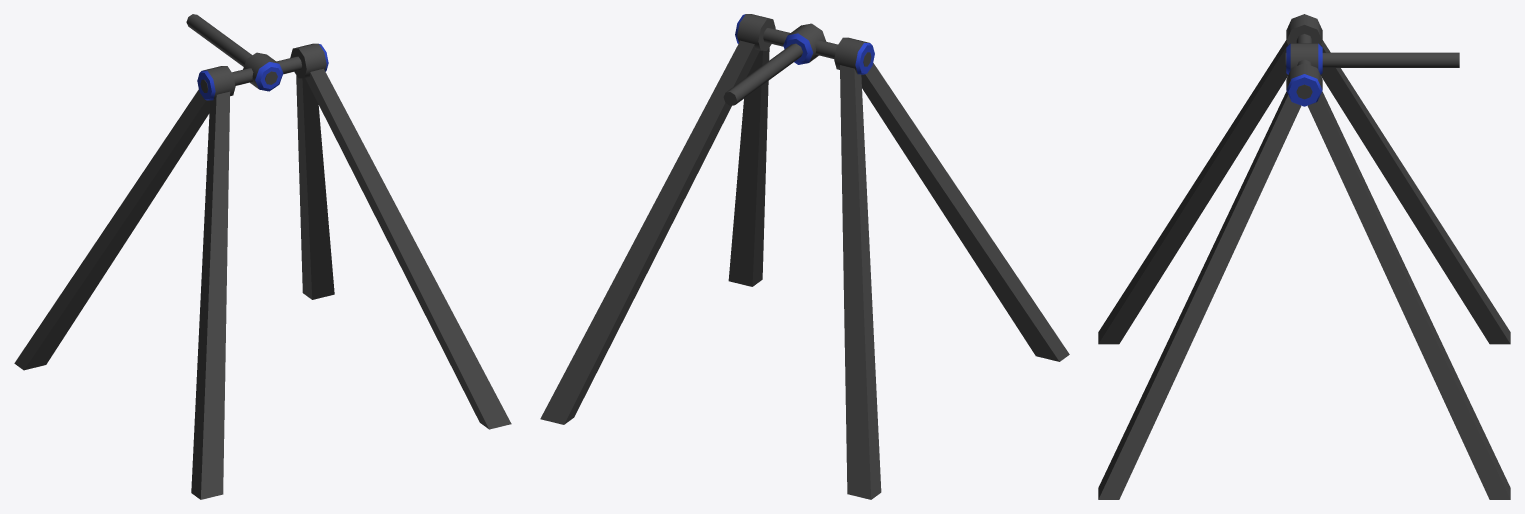
File: target-rotating-stand-blue.glb
3 views of the same model, side by side, from view 1: azimuth 30°, elevation 25°; view 2: azimuth 150°, elevation 25°; view 3: azimuth 270°, elevation 25° (orthographic). The views are drawn at different scales.
Parts seen in each view (by area): view 1: blueStand; view 2: blueStand; view 3: blueStand.
Boxes of the visible parts, bbox=[...] form: blueStand: bbox=[14, 14, 511, 499]; blueStand: bbox=[540, 14, 1069, 499]; blueStand: bbox=[1098, 14, 1510, 499].
Bounding box in the file's own units: 2.69 × 2.78 × 2.79.
Materials: 1 (1 with a texture image).
